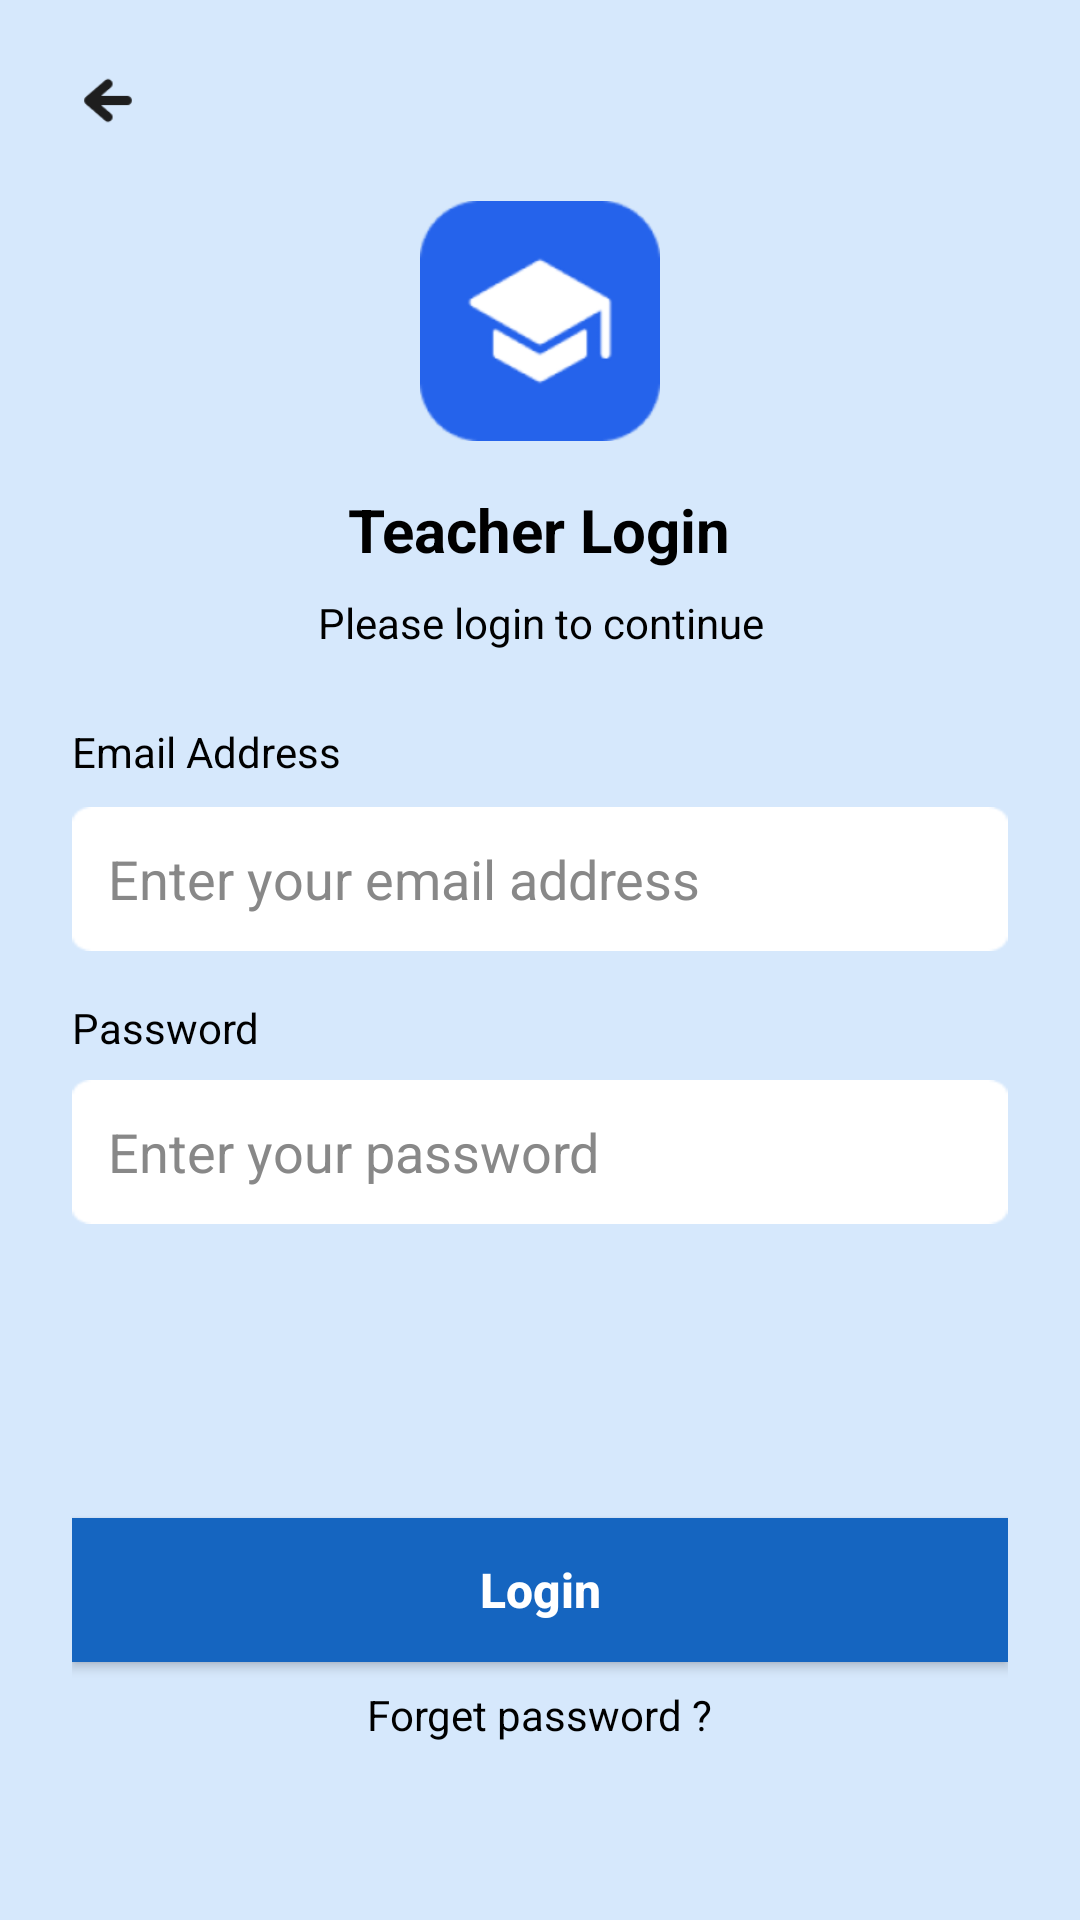

Icons on this 1080px×1920px Android screen, each with its box as (x1, y1, x2, y2):
Back: (84, 78, 132, 123)
